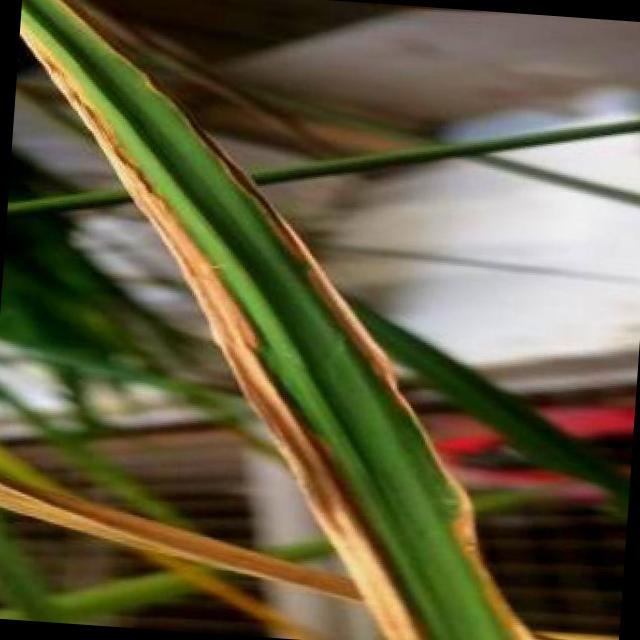Rice_Bacterial_Blight: (289, 376, 482, 640)
